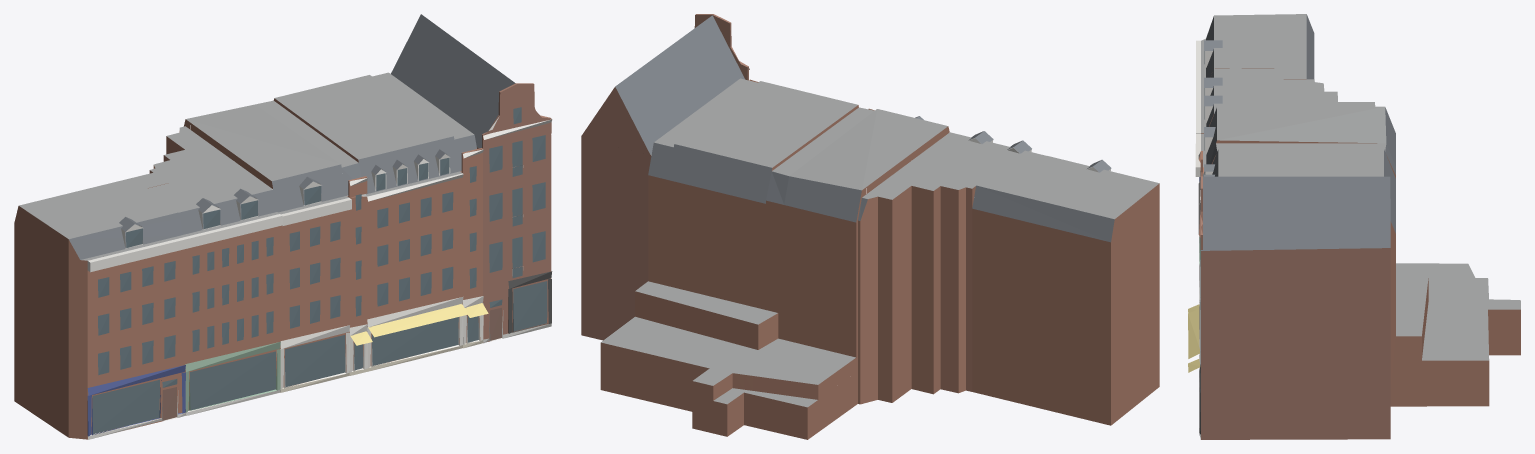
File: chunk-face-bilder-233580-162444.lod2.glb
3 views of the same model, side by side, from view 1: azimuth 30°, elevation 25°; view 2: azimuth 150°, elevation 25°; view 3: azimuth 270°, elevation 25° (orthographic). The views are drawn at different scales.
Visible parts, largest first — view 1: lod2; view 2: lod2; view 3: lod2.
Boxes of the visible parts, left/top/right/bottom form: lod2: left=14, top=14, right=552, bottom=439; lod2: left=581, top=14, right=1159, bottom=439; lod2: left=1188, top=14, right=1520, bottom=439.
Size of the model in its own units: 41.85 by 20.93 by 25.55.
